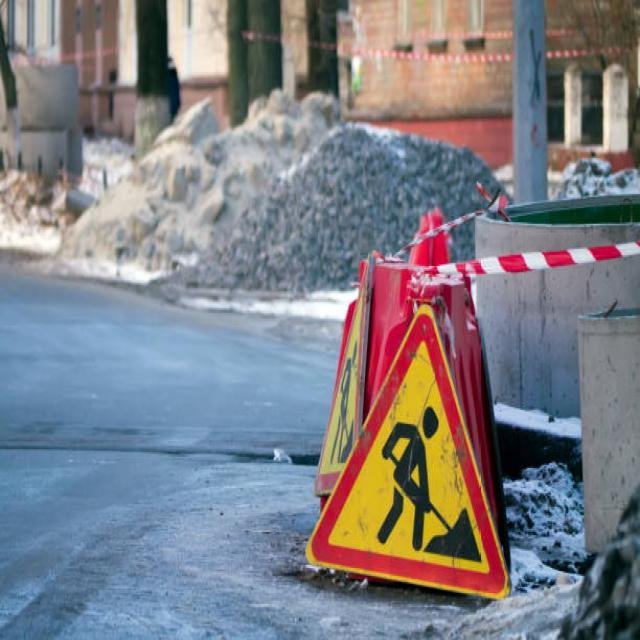road_work: (304, 308, 508, 611)
